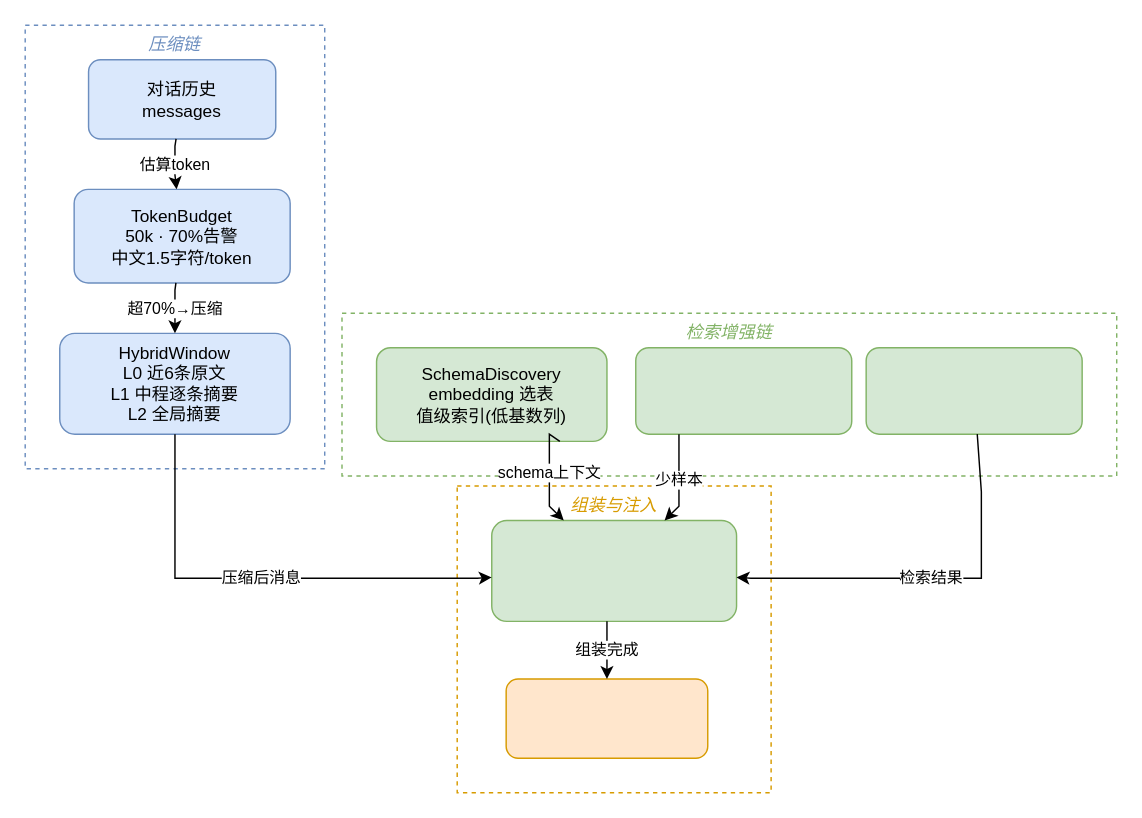
Some shapes in this 1142 by 818 pixel diagram are drawn without their labels. The shapes that lost their labels are listed below. From the top down, each one's centre as x and y in pixels, then its label:
At (743,390): "SQLExampleStore 相似SQL少样本 Vanna 模式".
At (973,390): "Self-Query RAG 语义 + 元数据过滤".
At (613,570): "build_system_prompt 5层组装 Role/Tools/Workflow /Constraints/Output".
At (606,718): "注入 Agent (system prompt)".
